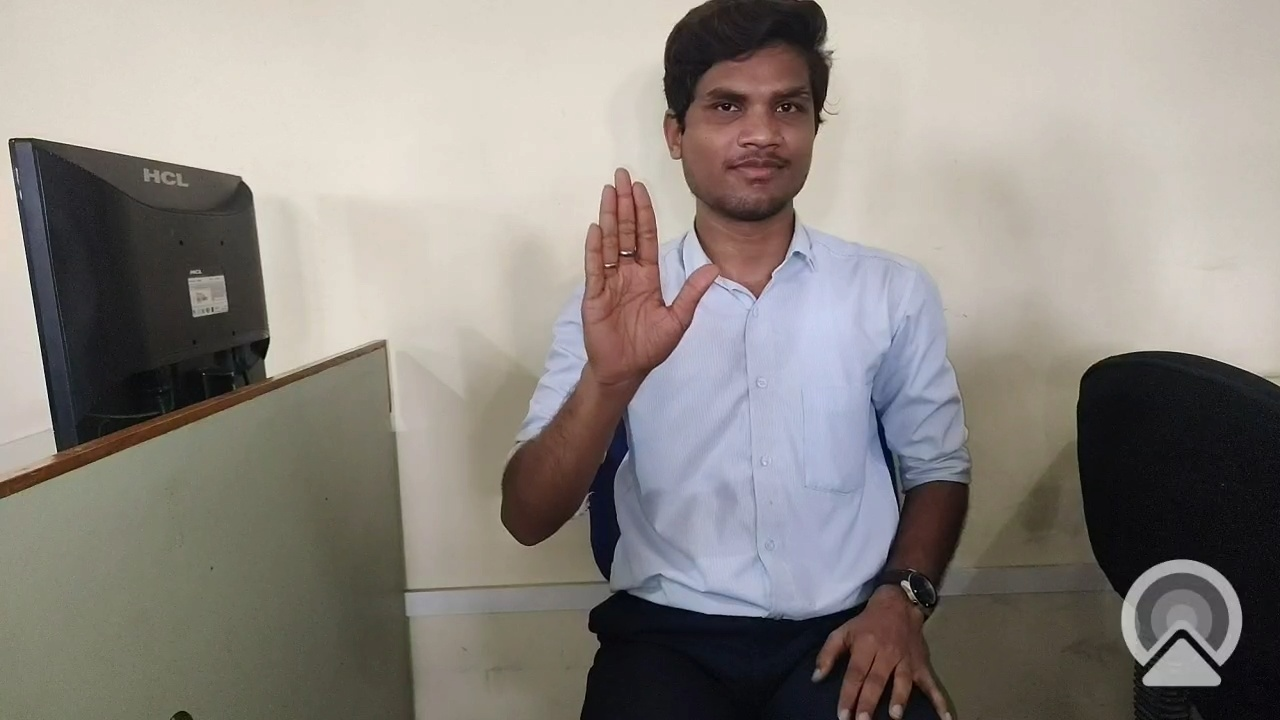Hello: (569, 156, 729, 398)
